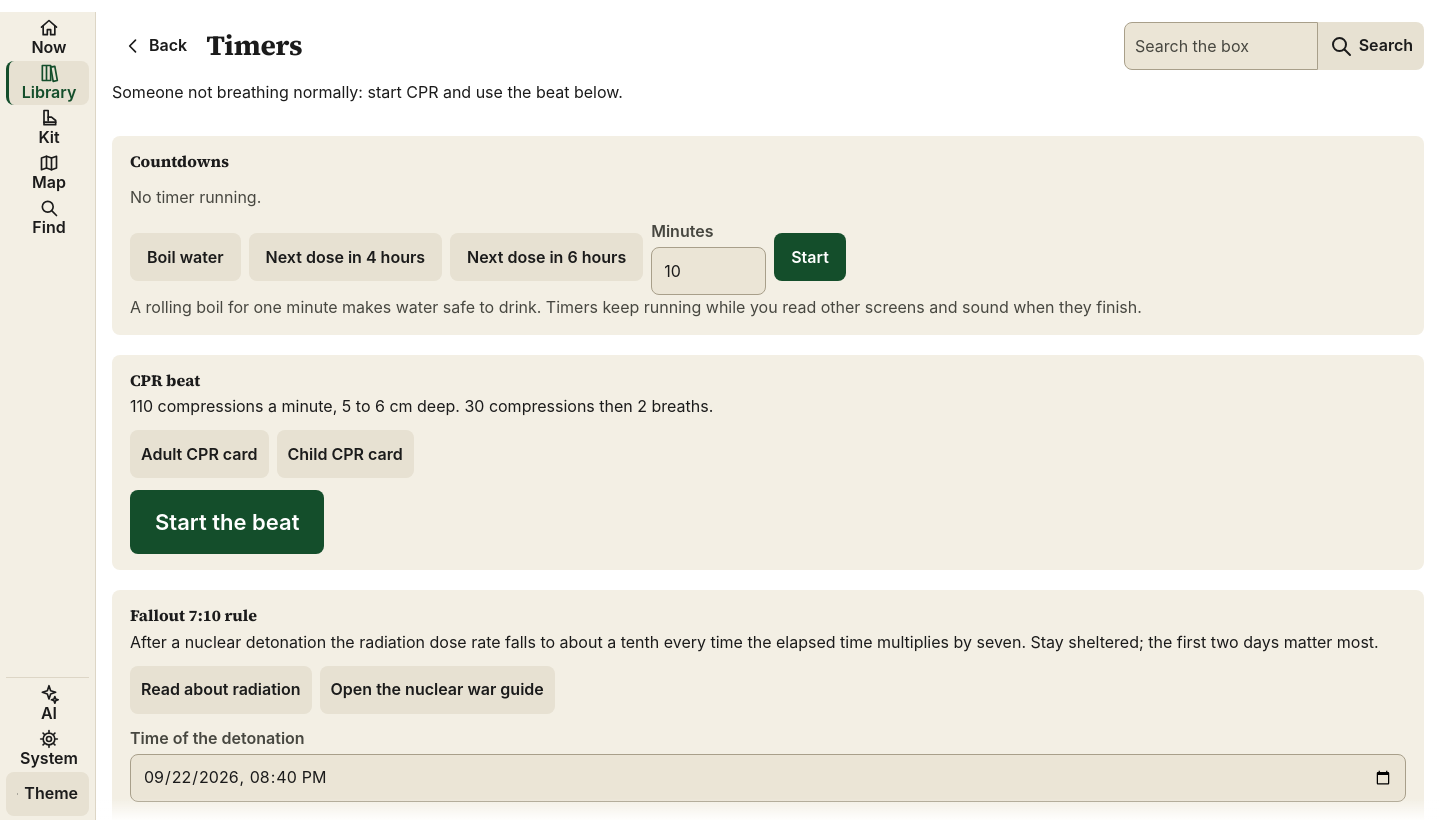
Scenario: Timers › counts CPR compressions from the start button
The image size is (1440, 820).
Click the button "Start the beat" at (227, 522), box [130,490,324,554]
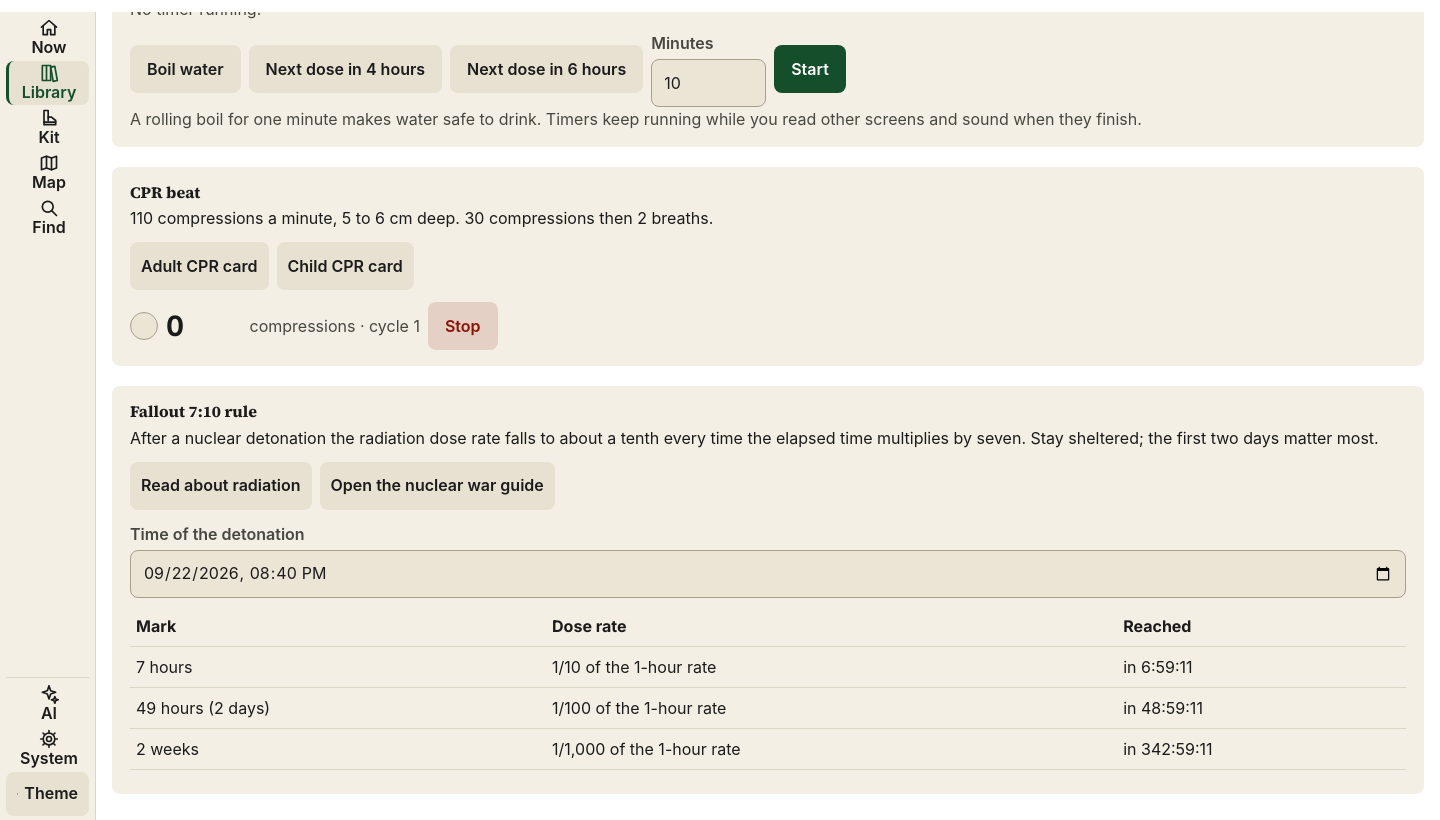
Result: the text named "Compressions so far" reads "0" at [166,309,184,343]
Result: the button "Stop" is shown at [428,302,498,350]
Result: the table named "Fallout marks" shows "1/10 of the 1-hour rate" at [130,606,1406,770]
